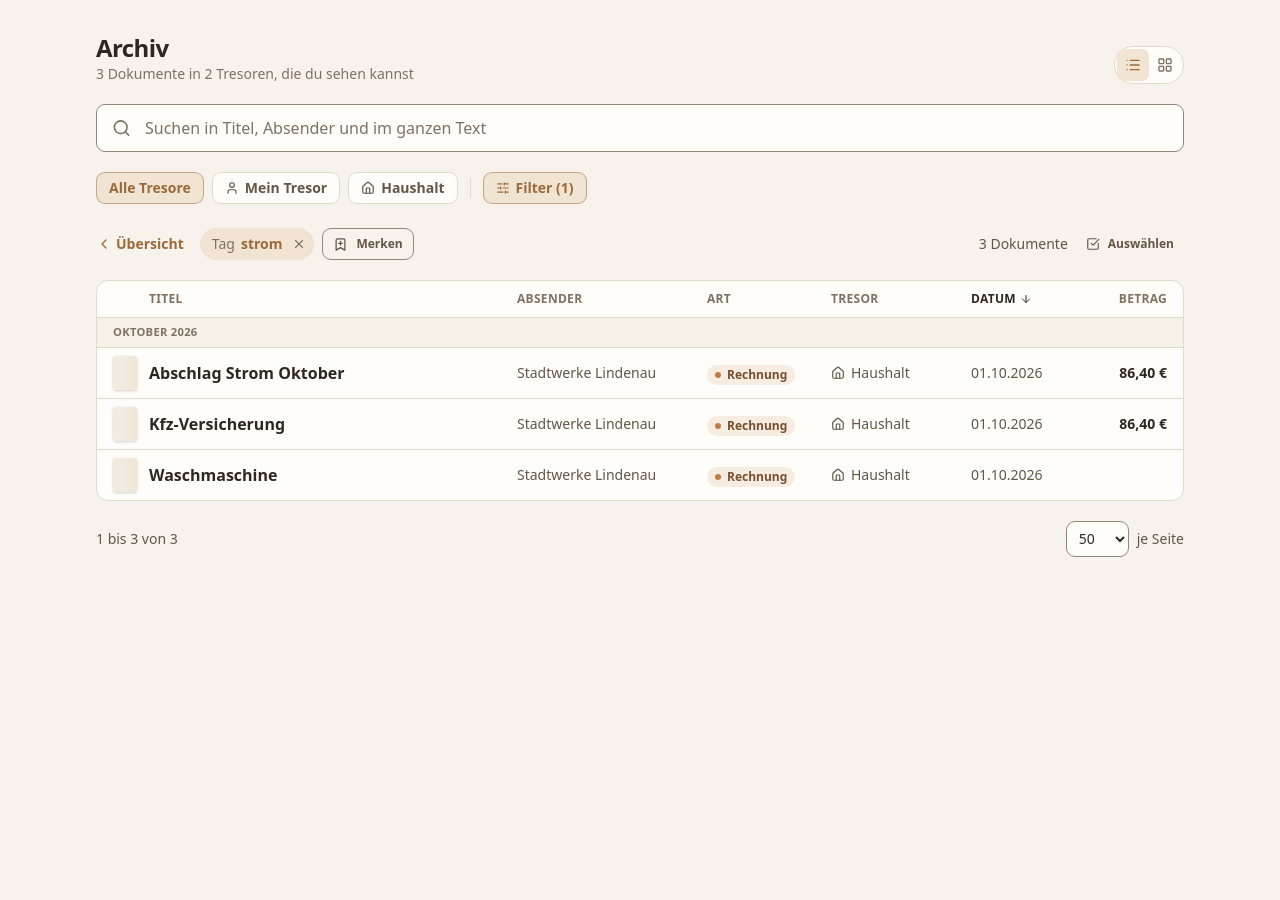
Test: Merken › says when there are thirty already, and the server refusing is shown
What coordinates should you click on to do the following:
click the button "Merken"
I would click on:
 (368, 244)
Its box is [322,228,414,260].
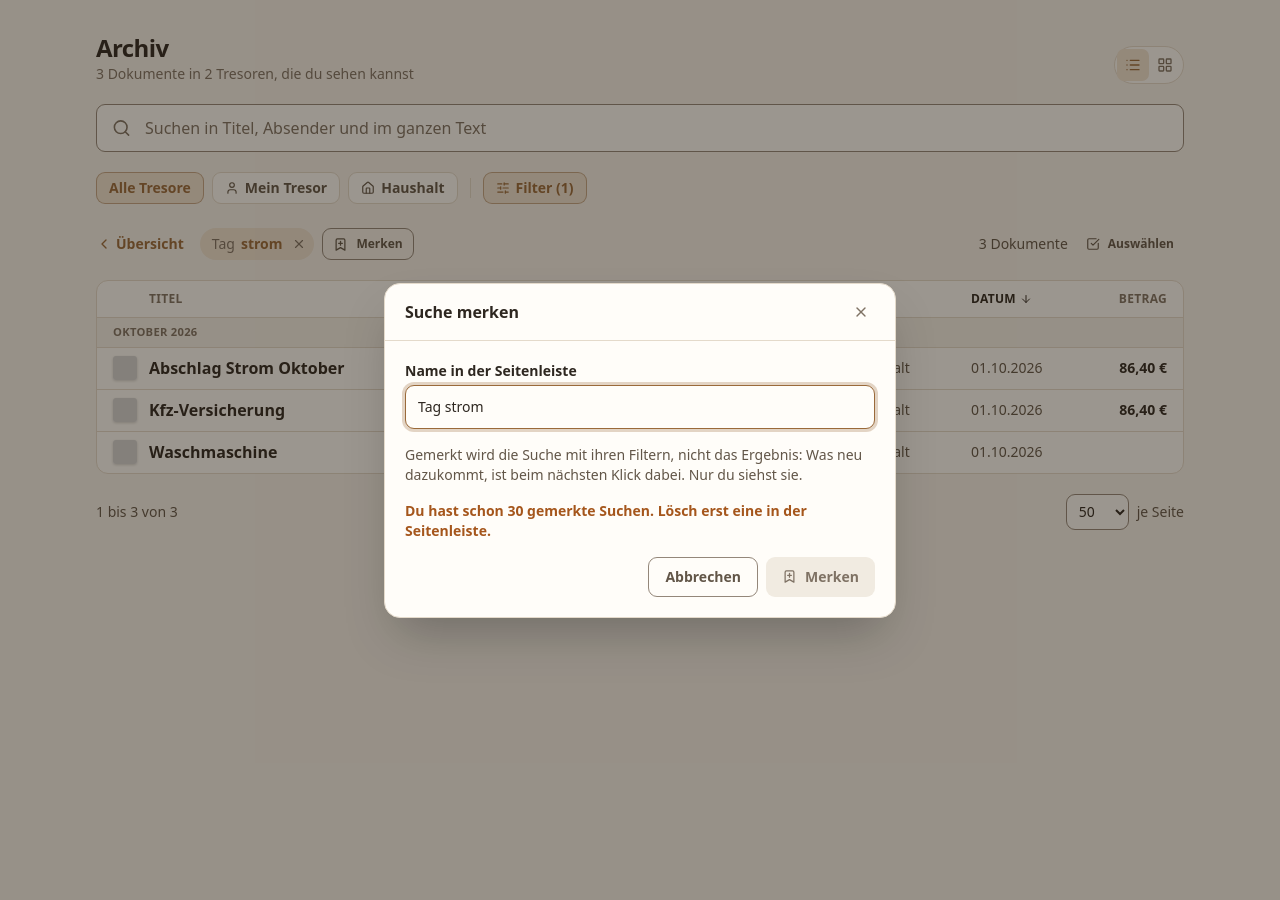
expect the text "Du hast schon 30 gemerkte Suchen. Lösch erst eine in der Seitenleiste." is shown: met, box [405,500,875,540]
expect the button "Merken" is disabled: met, box [766,556,875,596]
